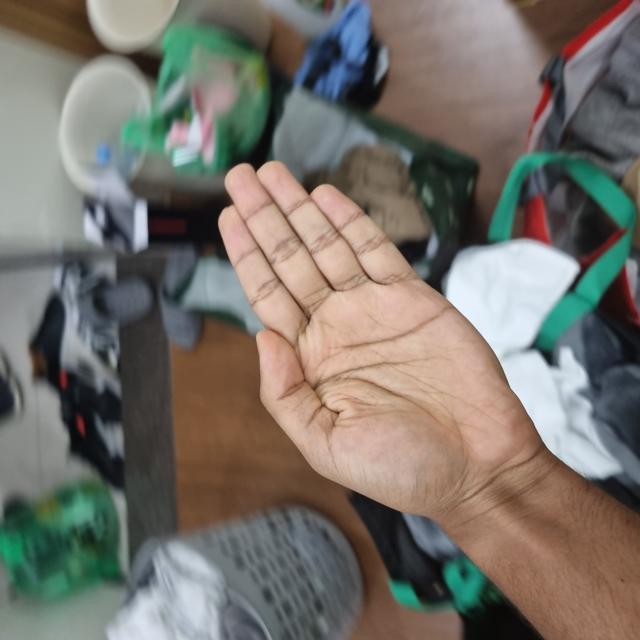Paper: (119, 260, 378, 535)
